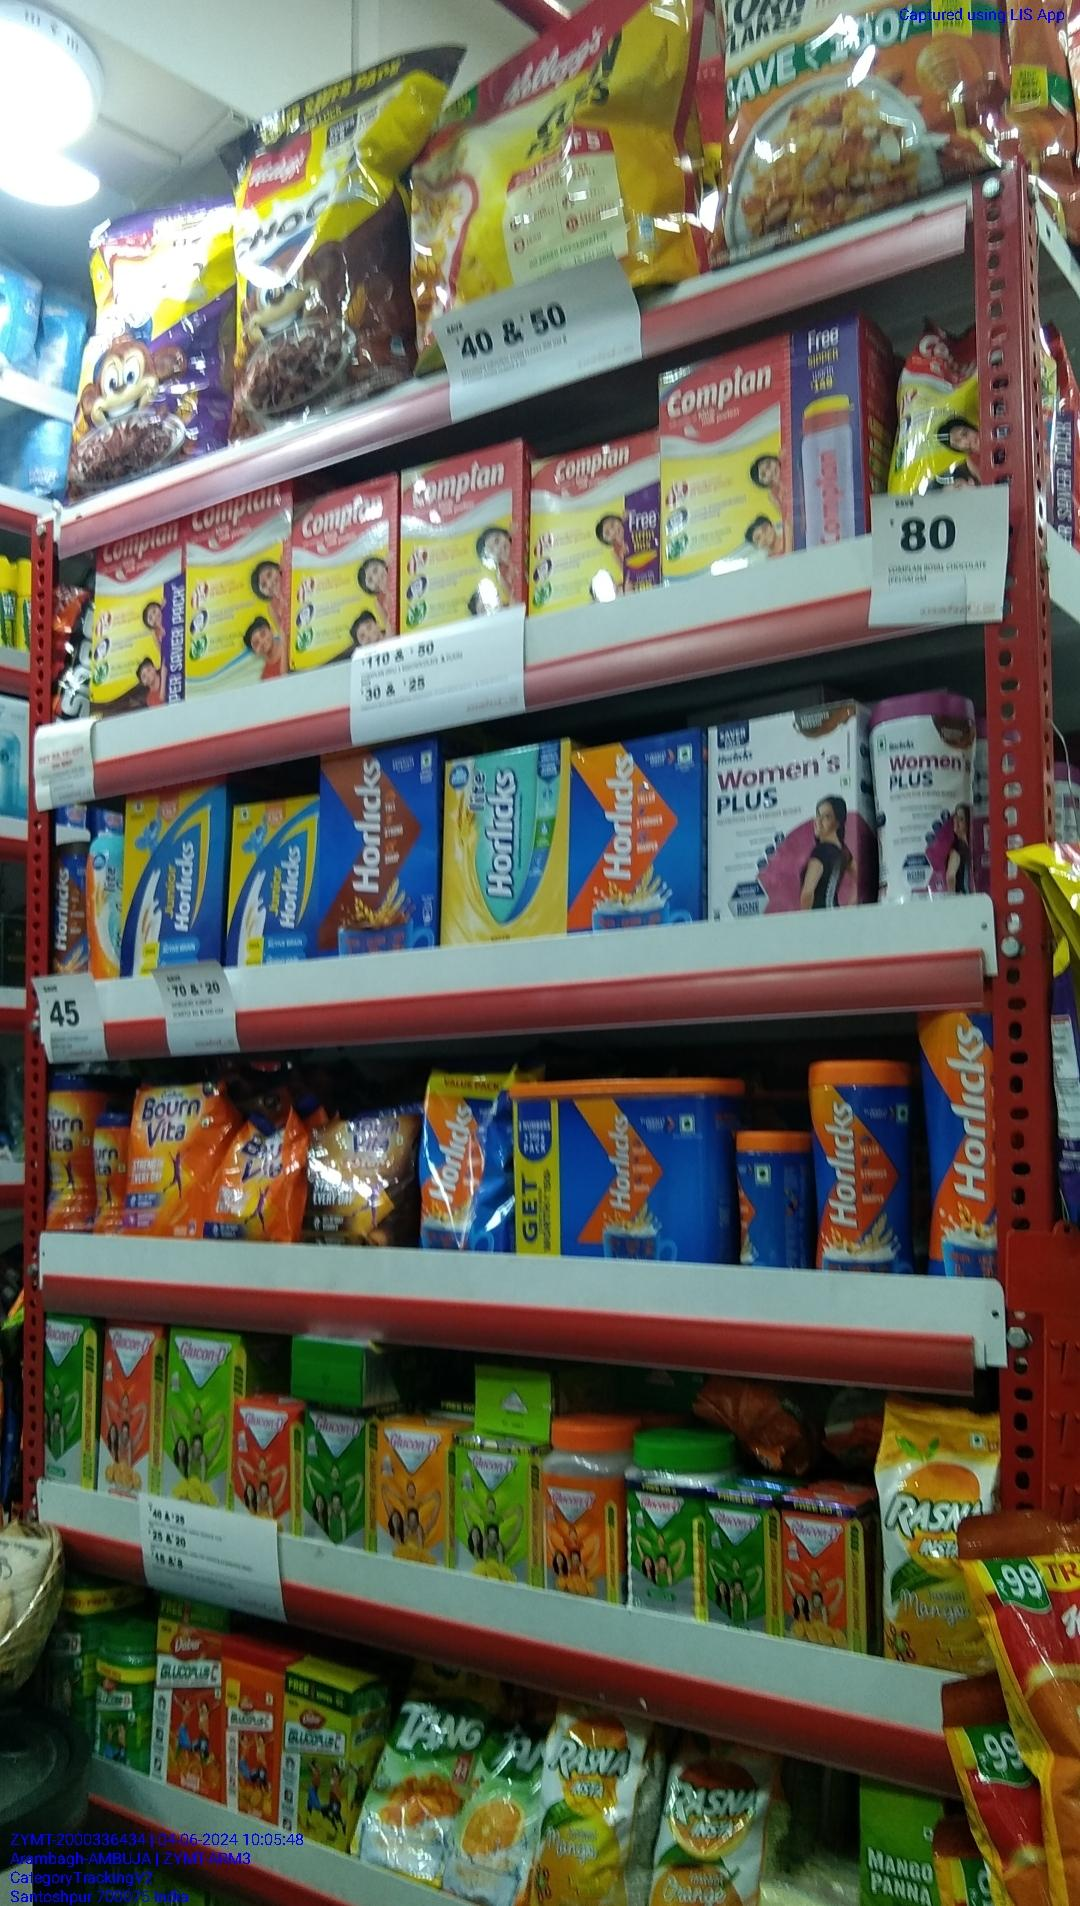HORLICK_MALT_1_KG_CONTAINER: (507, 1076, 734, 1262)
